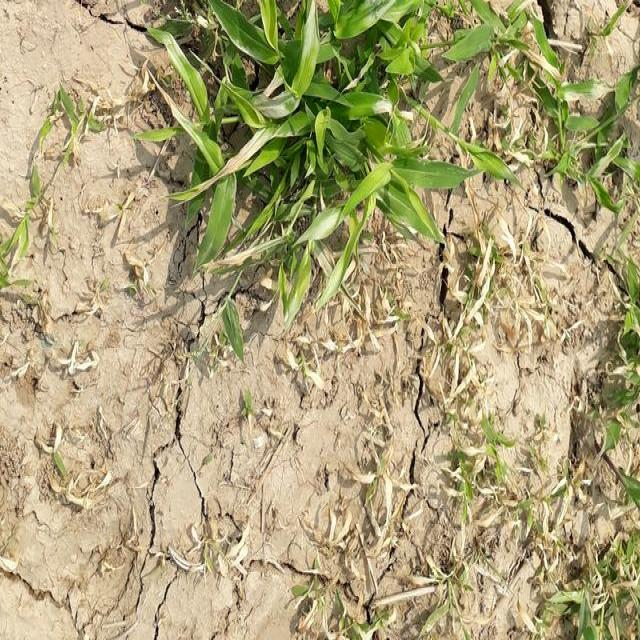weed: (146, 0, 466, 268)
